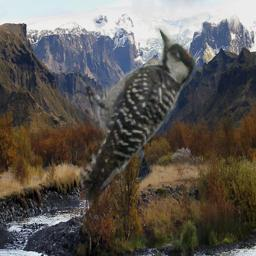Woodpecker: (78, 21, 196, 210)
